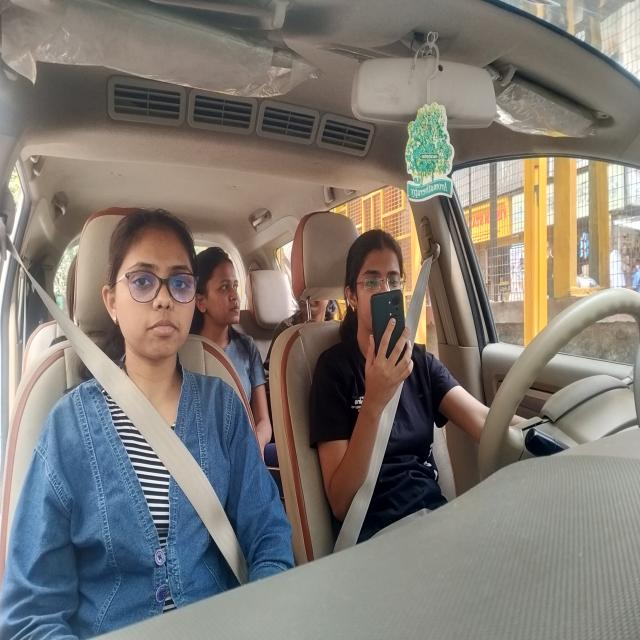person: (103, 200, 201, 369), (344, 226, 414, 348), (195, 240, 246, 339), (370, 291, 410, 374)
